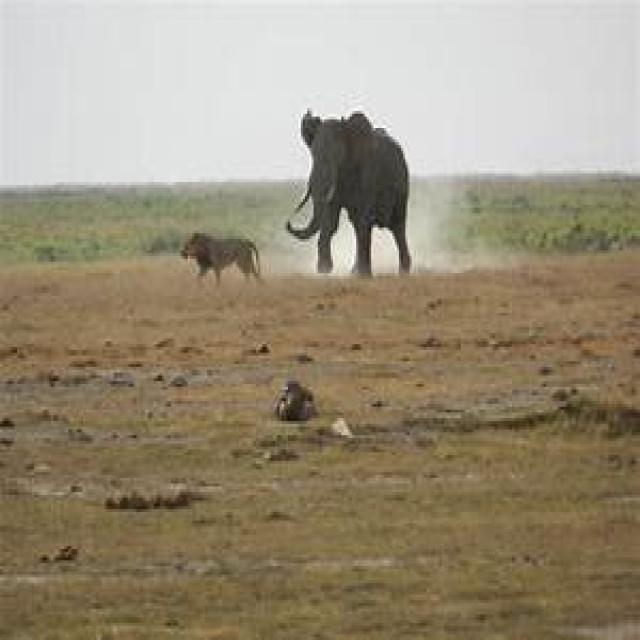elephant: (290, 111, 412, 276)
